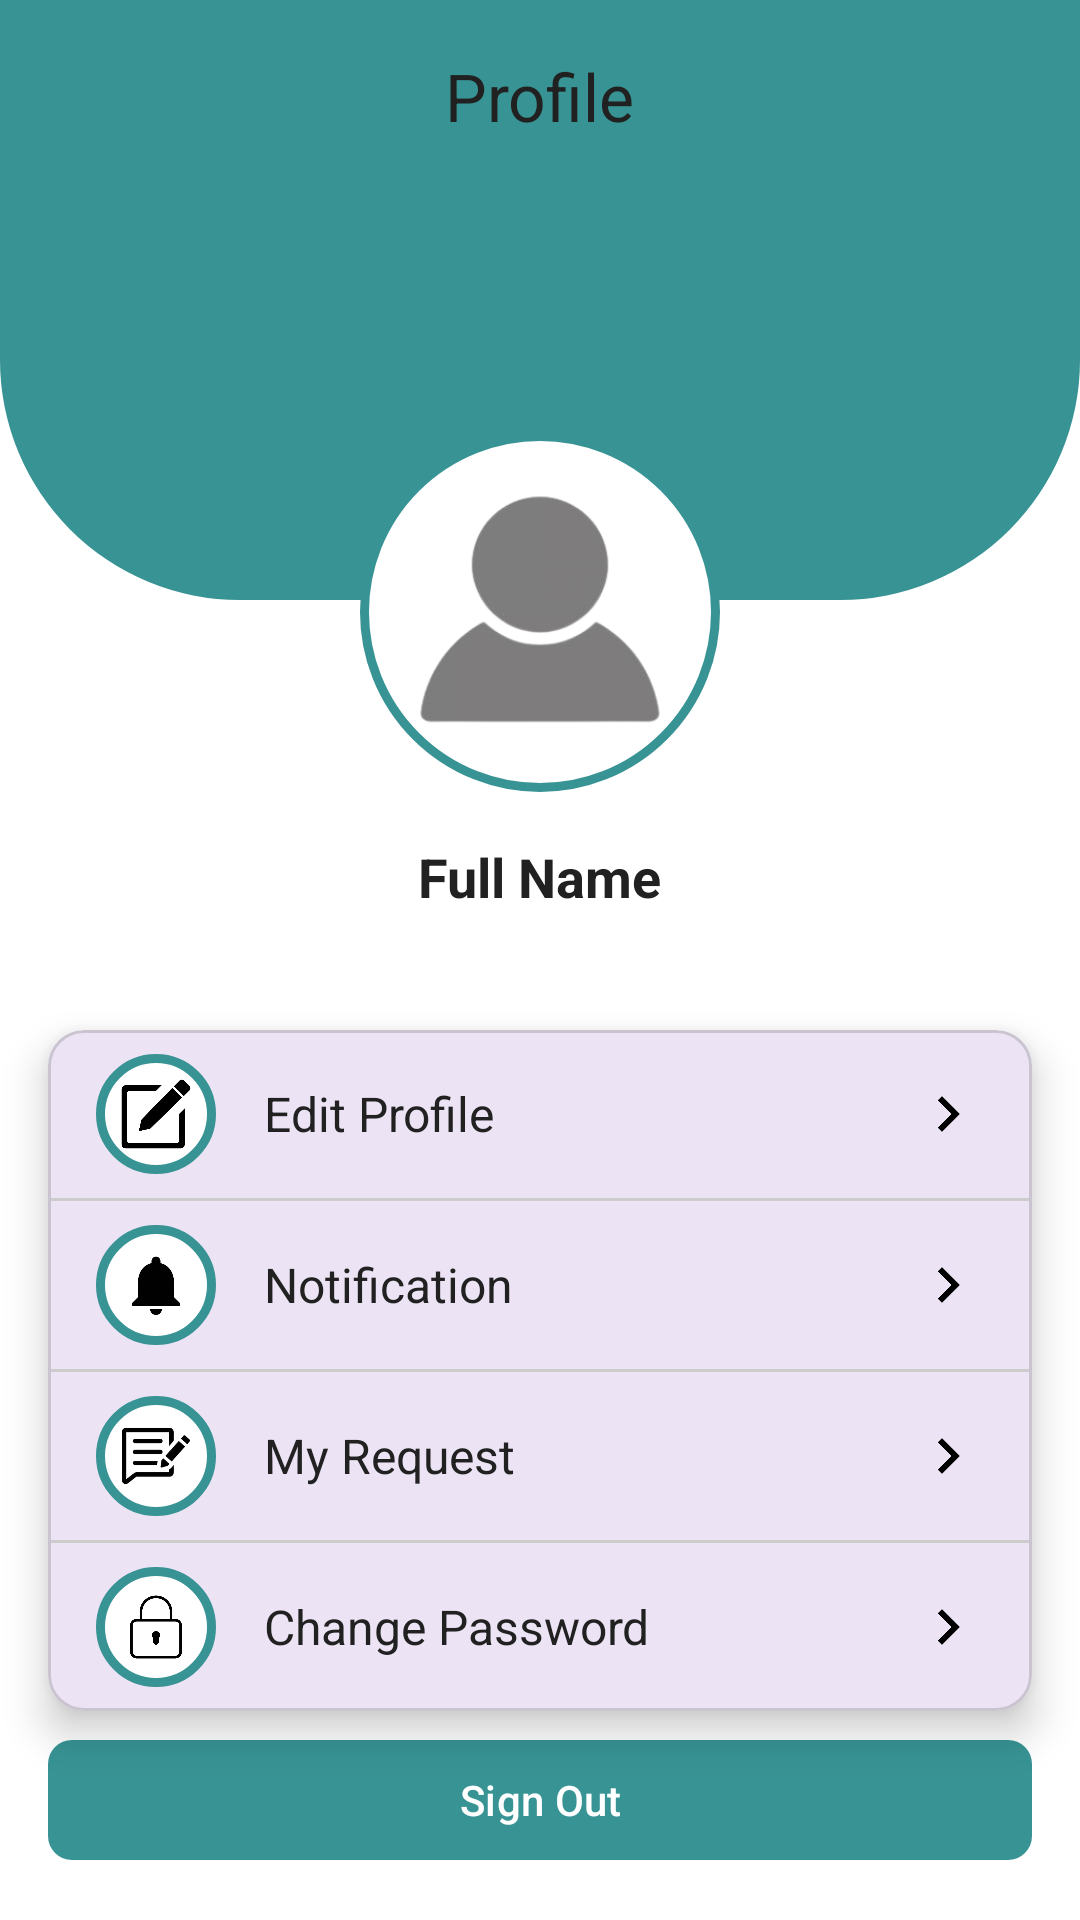

Named icons in this screenshot (1080x1920) and their centers, point (x, y):
chevron right: point (949, 1114), point (949, 1285), point (949, 1456), point (949, 1627)
profiles: point (540, 612)
